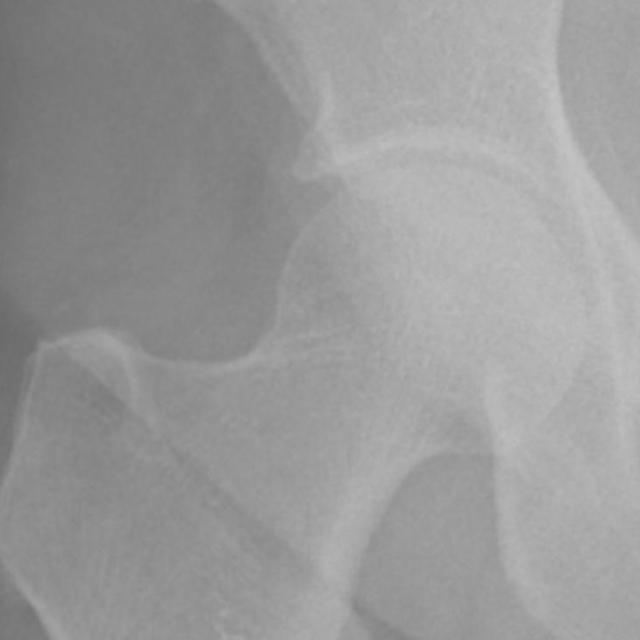Fitted_femural_head: (308, 163, 432, 308)
